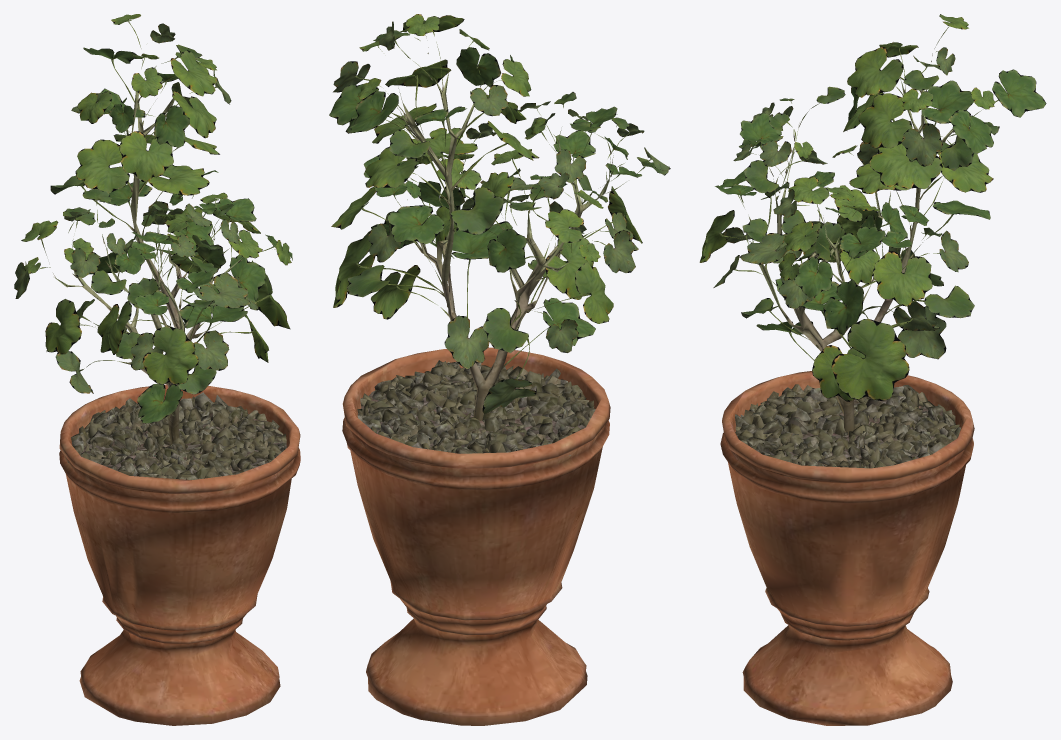
File: plant-tall.glb
3 renders of one model, left to right at view 1: azimuth 30°, elevation 25°; view 2: azimuth 150°, elevation 25°; view 3: azimuth 270°, elevation 25°, orthographic. The views are drawn at different scales.
Visible parts, largest first — view 1: potted_plant_01_stem, potted_plant_01_leaves; view 2: potted_plant_01_stem, potted_plant_01_leaves; view 3: potted_plant_01_stem, potted_plant_01_leaves.
Boxes of the visible parts, left/top/right/bottom form: potted_plant_01_stem: left=54, top=91, right=300, bottom=725; potted_plant_01_leaves: left=14, top=14, right=292, bottom=423; potted_plant_01_stem: left=342, top=72, right=610, bottom=725; potted_plant_01_leaves: left=329, top=14, right=670, bottom=413; potted_plant_01_stem: left=720, top=81, right=974, bottom=725; potted_plant_01_leaves: left=699, top=14, right=1046, bottom=401.
Bounding box in the file's own units: 0.5866 × 1.34 × 0.6336.
Materials: 2 (2 with a texture image).
